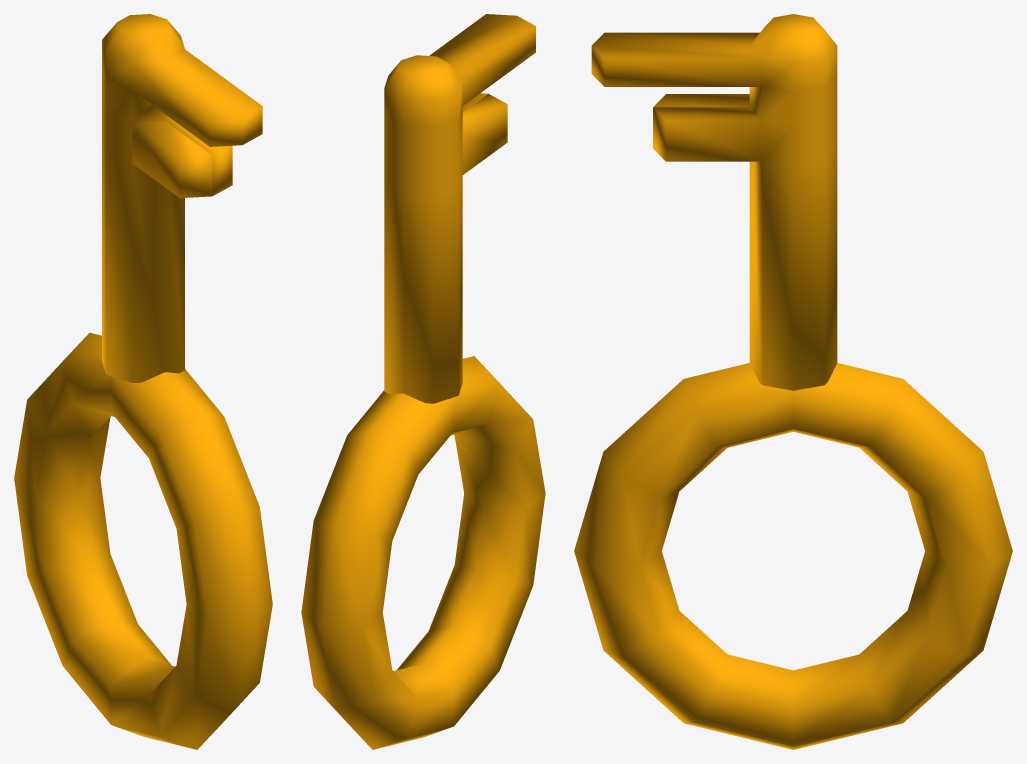
The model's file is key.obj.
The picture shows the model from 3 angles, left to right: view 1: azimuth 30°, elevation 25°; view 2: azimuth 150°, elevation 25°; view 3: azimuth 270°, elevation 25°; orthographic projection. The views are drawn at different scales.
Visible parts, largest first — view 1: Torus; view 2: Torus; view 3: Torus.
Part boxes in pixels (x1,y1,x2,y2): Torus: (14, 14, 272, 749); Torus: (301, 14, 545, 749); Torus: (574, 14, 1012, 749).
Bounding box in the file's own units: 1.79 × 16.29 × 8.95.
Materials: 1 (1 with a texture image).
